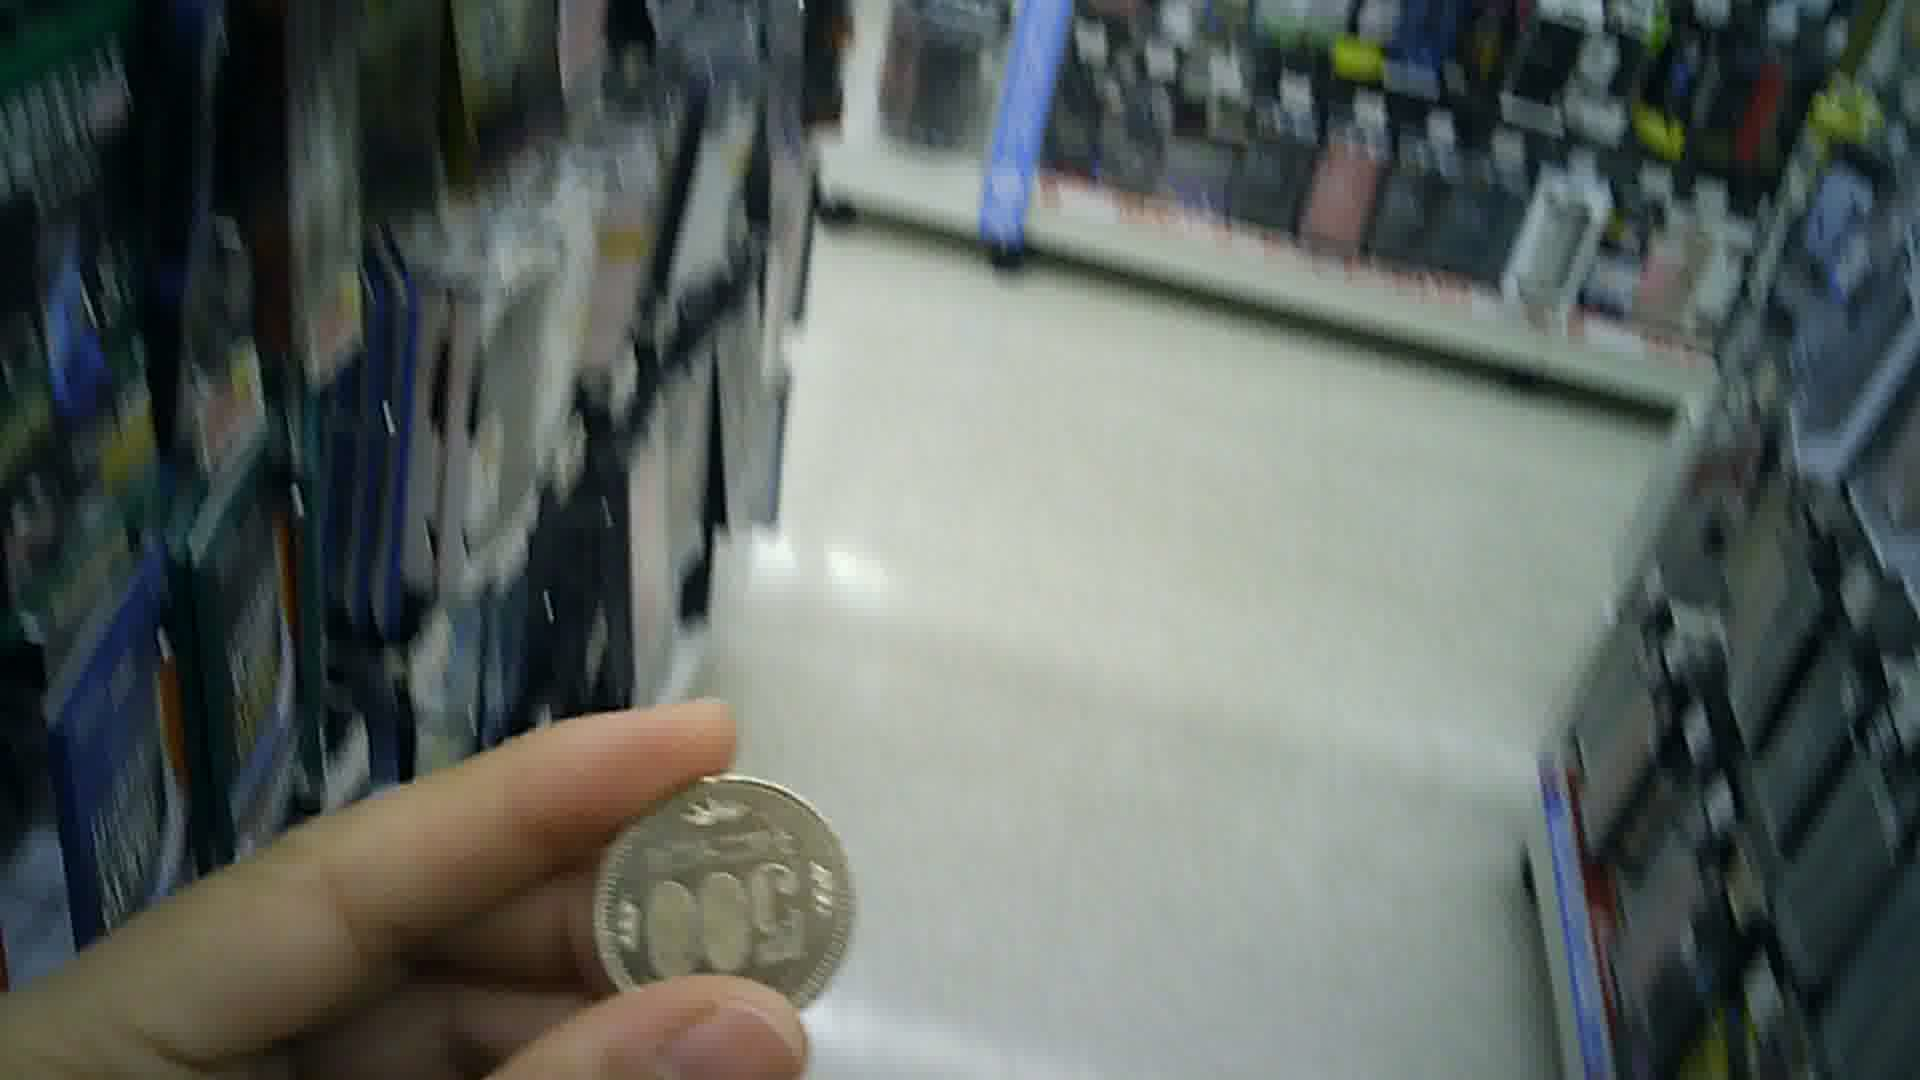500 Yen: (585, 762, 864, 1029)
